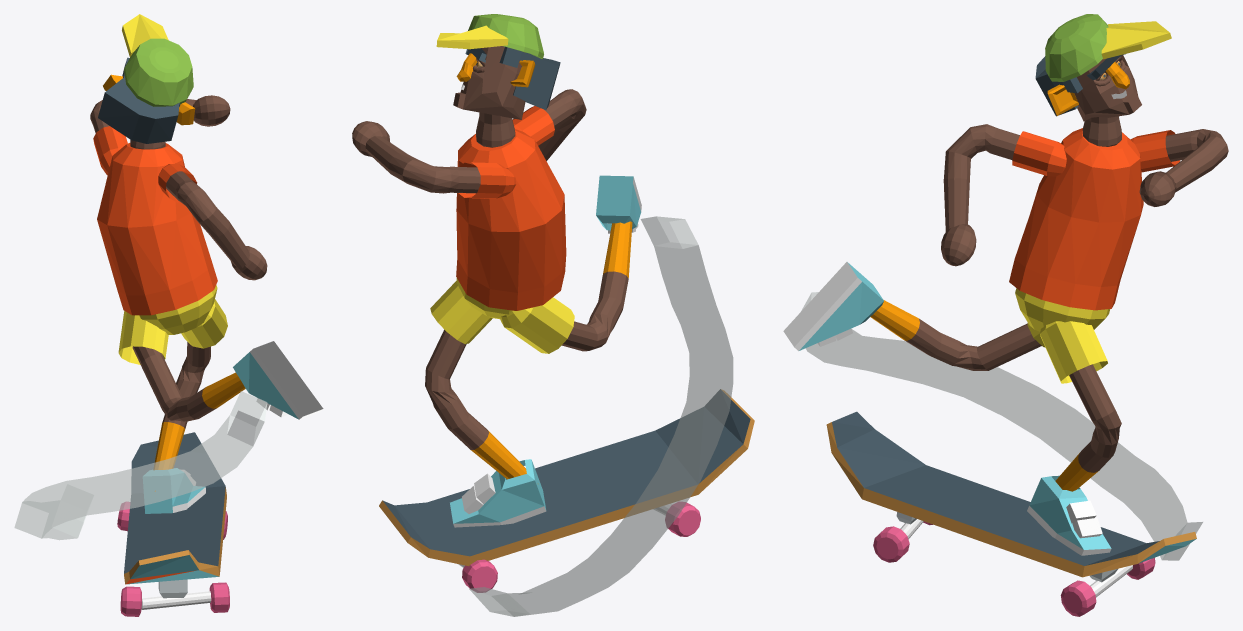
Rendered from scene_FpRVkBAcIi.glb.
3 renders of one model, left to right at view 1: azimuth 30°, elevation 25°; view 2: azimuth 150°, elevation 25°; view 3: azimuth 270°, elevation 25°, orthographic. The views are drawn at different scales.
Visible parts, largest first — view 1: Node; view 2: Node; view 3: Node.
Part boxes in pixels (box(x1,y1,x2,y2)): Node: box(14, 14, 323, 616); Node: box(352, 14, 754, 616); Node: box(783, 14, 1228, 616).
Bounding box in the file's own units: 0.965 × 1.87 × 1.33.
